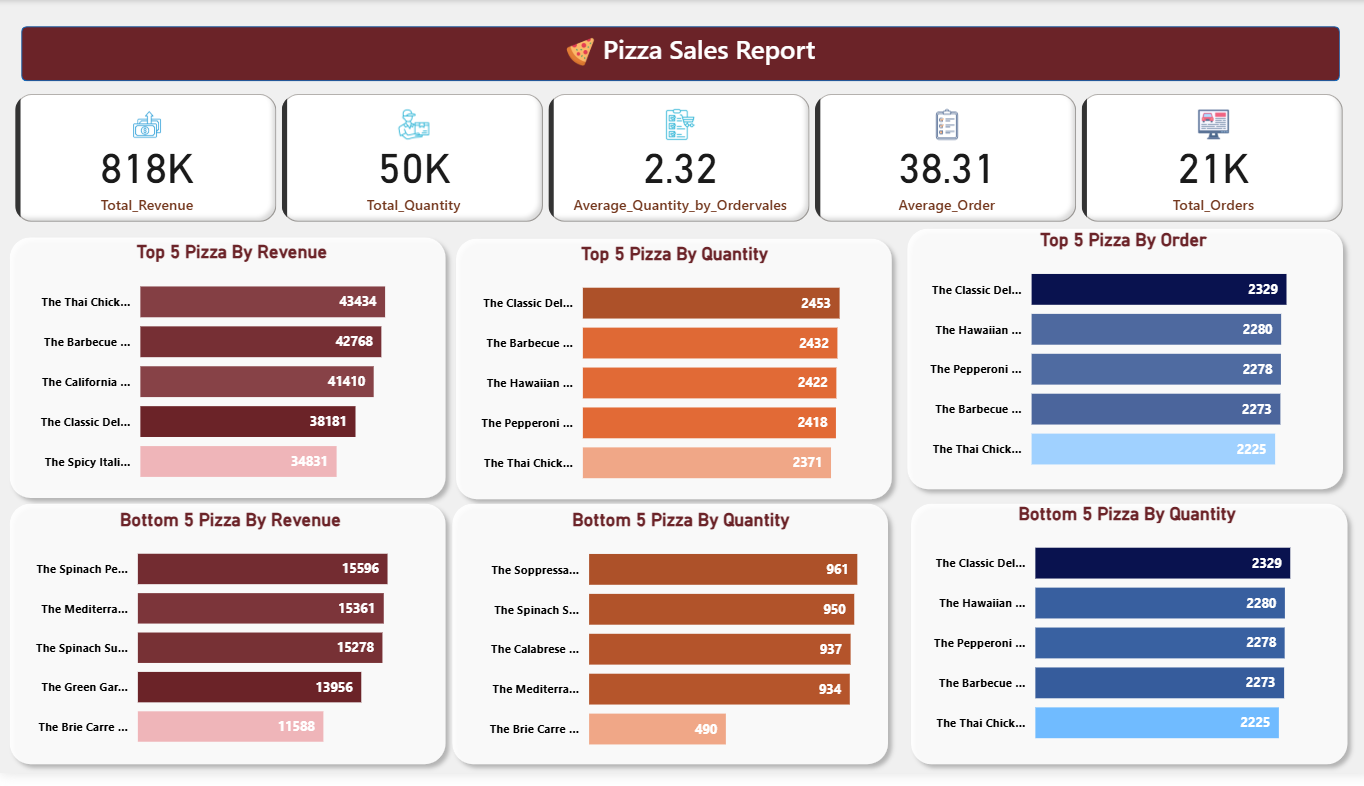

Layout of this report page (visuals, bound fields, positions):
{"tool":"powerbi","page":{"name":"Best/Wrost","canvas":[1280,720],"ordinal":1},"visuals":[{"type":"shape","box":[19.8,24.4,1226.7,51.2],"z":0},{"type":"cardVisual","fields":{"Data":["pizza_sales.Total_Revenue","pizza_sales.Total_Quantity","pizza_sales.Average_Quantity_by_Ordervales","pizza_sales.Average_Order","pizza_sales.Total_Orders"]},"box":[9.7,82,1247.5,129.1],"z":1000},{"type":"textbox","box":[493,24.4,280.2,61.6],"z":2000},{"type":"image","box":[480.2,30.2,118.6,36],"z":3000},{"type":"shape","box":[0,211.1,423.5,260.6],"z":4000},{"type":"shape","box":[415,212.3,423.5,260.6],"z":5000},{"type":"shape","box":[834.9,203.9,423.5,260.6],"z":6000},{"type":"shape","box":[0,459.7,423.5,260.6],"z":7000},{"type":"shape","box":[411.4,459.7,423.5,260.6],"z":8000},{"type":"shape","box":[838.4,459.3,424,260.7],"z":9000},{"type":"clusteredBarChart","title":"Top 5 Pizza By Revenue","fields":{"Category":["pizza_sales.pizza_name"],"Y":["pizza_sales.Total_Revenue"]},"box":[19.3,224.4,392.1,240.1],"z":10000},{"type":"clusteredBarChart","title":"Bottom 5 Pizza By Revenue","fields":{"Category":["pizza_sales.pizza_name"],"Y":["pizza_sales.Total_Revenue"]},"box":[17.8,473.4,393.8,237.4],"z":11000},{"type":"clusteredBarChart","title":"Top 5 Pizza By Quantity","fields":{"Category":["pizza_sales.pizza_name"],"Y":["pizza_sales.Total_Quantity"]},"box":[430.9,225,392.5,240.1],"z":12000},{"type":"clusteredBarChart","title":"Bottom 5 Pizza By Quantity","fields":{"Category":["pizza_sales.pizza_name"],"Y":["pizza_sales.Total_Quantity"]},"box":[437.7,473.4,392.5,240.1],"z":13000},{"type":"clusteredBarChart","title":"Top 5 Pizza By Order","fields":{"Category":["pizza_sales.pizza_name"],"Y":["pizza_sales.Total_Orders"]},"box":[849.4,212.7,392.5,240.1],"z":14000},{"type":"clusteredBarChart","title":"Bottom 5 Pizza By Quantity","fields":{"Category":["pizza_sales.pizza_name"],"Y":["pizza_sales.Total_Orders"]},"box":[852.1,467.9,392.5,240.1],"z":15000}]}

Visuals, with their boxes in screenshot pixels (x1, y1, x2, y2), scaled from the page's 1280x720 canvas onto the 1364x786 screenshot:
shape: (21, 27, 1328, 83)
cardVisual - pizza_sales.Total_Revenue x pizza_sales.Total_Quantity: (10, 90, 1340, 230)
textbox: (525, 27, 824, 94)
image: (512, 33, 638, 72)
shape: (0, 230, 451, 515)
shape: (442, 232, 894, 516)
shape: (890, 223, 1341, 507)
shape: (0, 502, 451, 785)
shape: (438, 502, 890, 785)
shape: (893, 501, 1345, 785)
"Top 5 Pizza By Revenue" clusteredBarChart: (21, 245, 438, 507)
"Bottom 5 Pizza By Revenue" clusteredBarChart: (19, 517, 439, 776)
"Top 5 Pizza By Quantity" clusteredBarChart: (459, 246, 877, 508)
"Bottom 5 Pizza By Quantity" clusteredBarChart: (466, 517, 885, 779)
"Top 5 Pizza By Order" clusteredBarChart: (905, 232, 1323, 494)
"Bottom 5 Pizza By Quantity" clusteredBarChart: (908, 511, 1326, 773)
